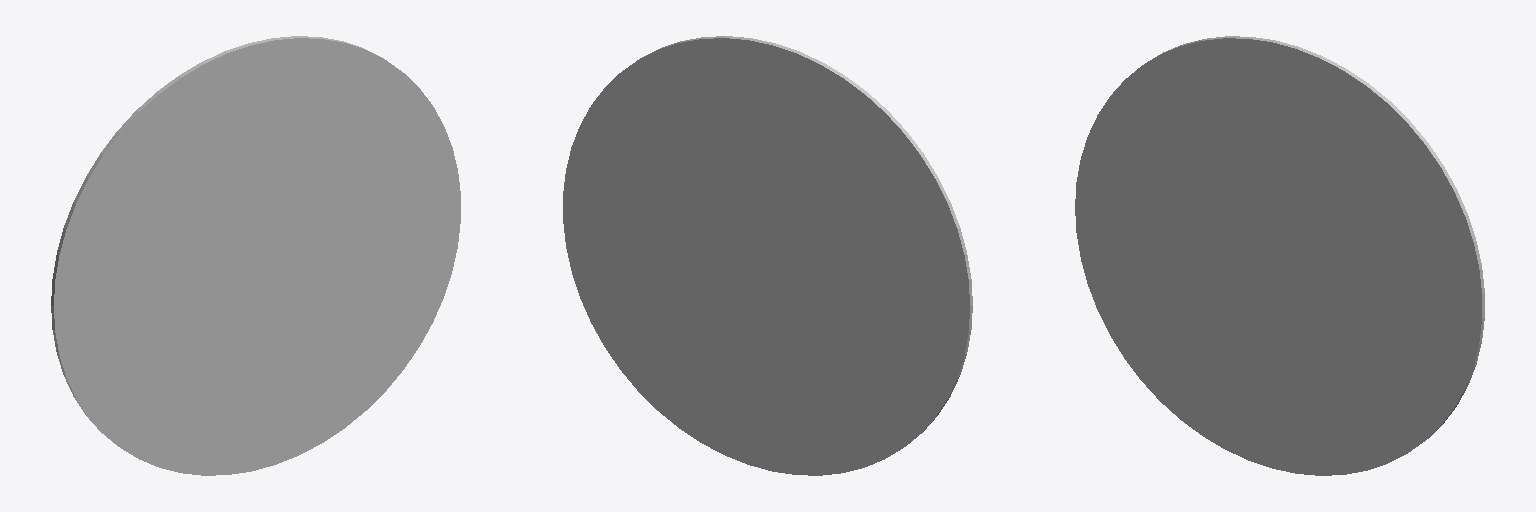
File: fixture_point.obj
The picture shows the model from 3 angles: view 1: azimuth 30°, elevation 25°; view 2: azimuth 150°, elevation 25°; view 3: azimuth 330°, elevation 25°; orthographic projection.
Visible parts, largest first — view 1: Body1; view 2: Body1; view 3: Body1.
Part boxes in pixels (left/top/right/bottom): Body1: left=51, top=36, right=460, bottom=475; Body1: left=563, top=36, right=972, bottom=475; Body1: left=1075, top=36, right=1484, bottom=475.
Size of the model in its own units: 8.49 by 8.5 by 0.1.